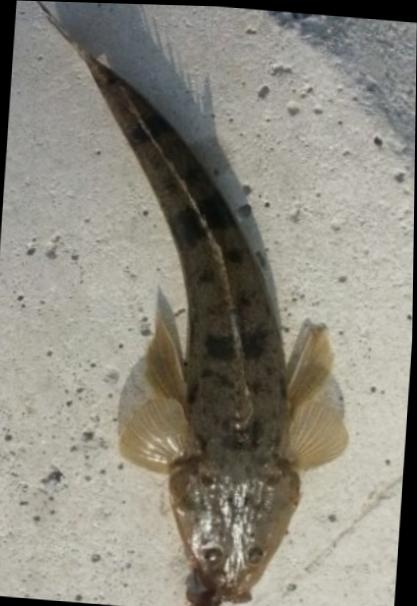fish: (37, 1, 351, 601)
